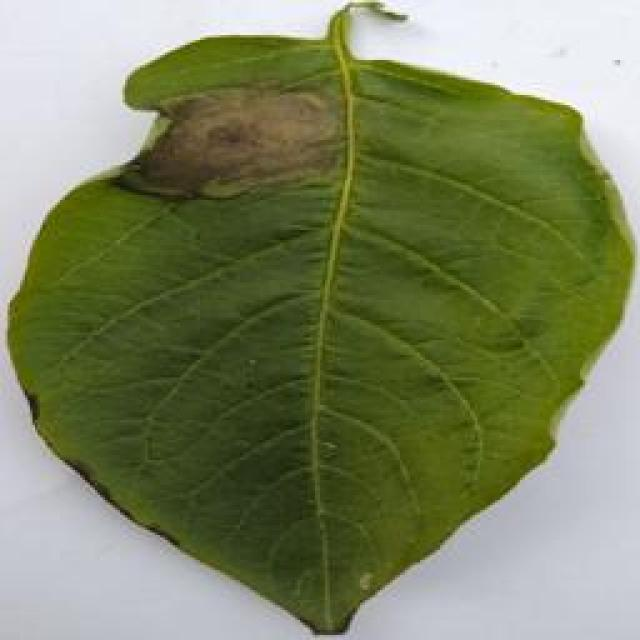Potato_Late_Blight: (9, 7, 624, 634)
